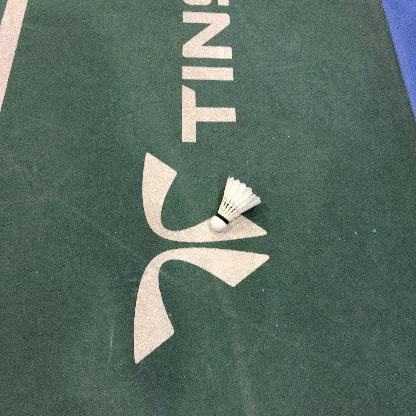ball_single: (211, 176, 261, 231)
